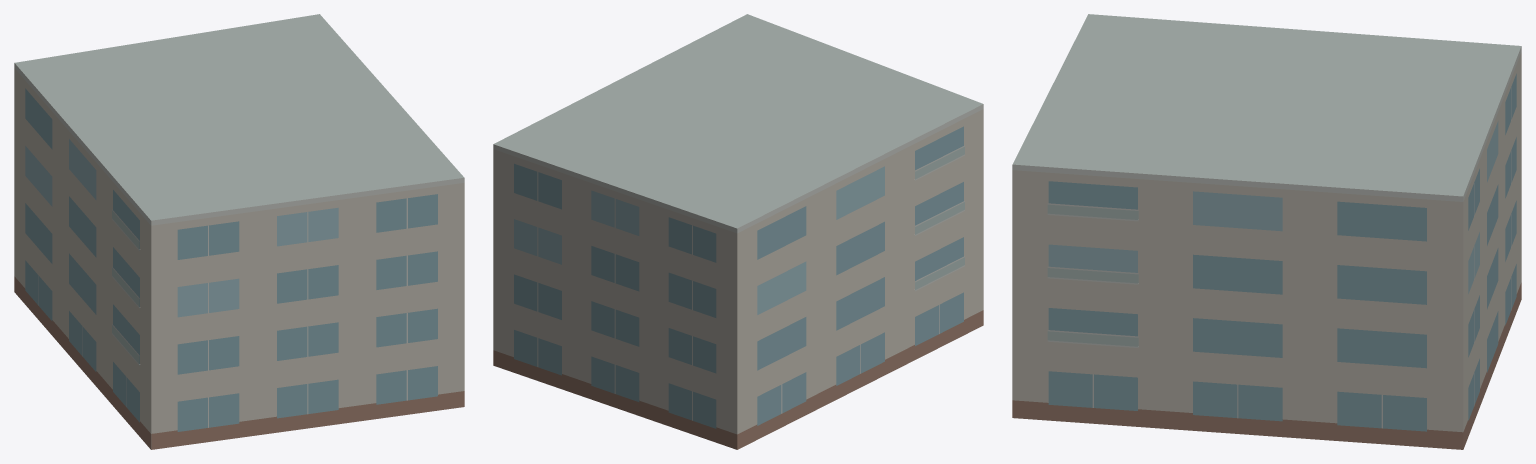
File: survey-upis-32825659.glb
3 views of the same model, side by side, from view 1: azimuth 30°, elevation 25°; view 2: azimuth 150°, elevation 25°; view 3: azimuth 270°, elevation 25° (orthographic). The views are drawn at different scales.
Parts seen in each view (by area): view 1: survey-upis-32825659.tmp; view 2: survey-upis-32825659.tmp; view 3: survey-upis-32825659.tmp.
Part boxes in pixels (<box>): survey-upis-32825659.tmp: <box>14,14,464,449</box>; survey-upis-32825659.tmp: <box>493,14,983,449</box>; survey-upis-32825659.tmp: <box>1012,14,1521,449</box>.
Size of the model in its own units: 17.07 by 11.05 by 20.13.
